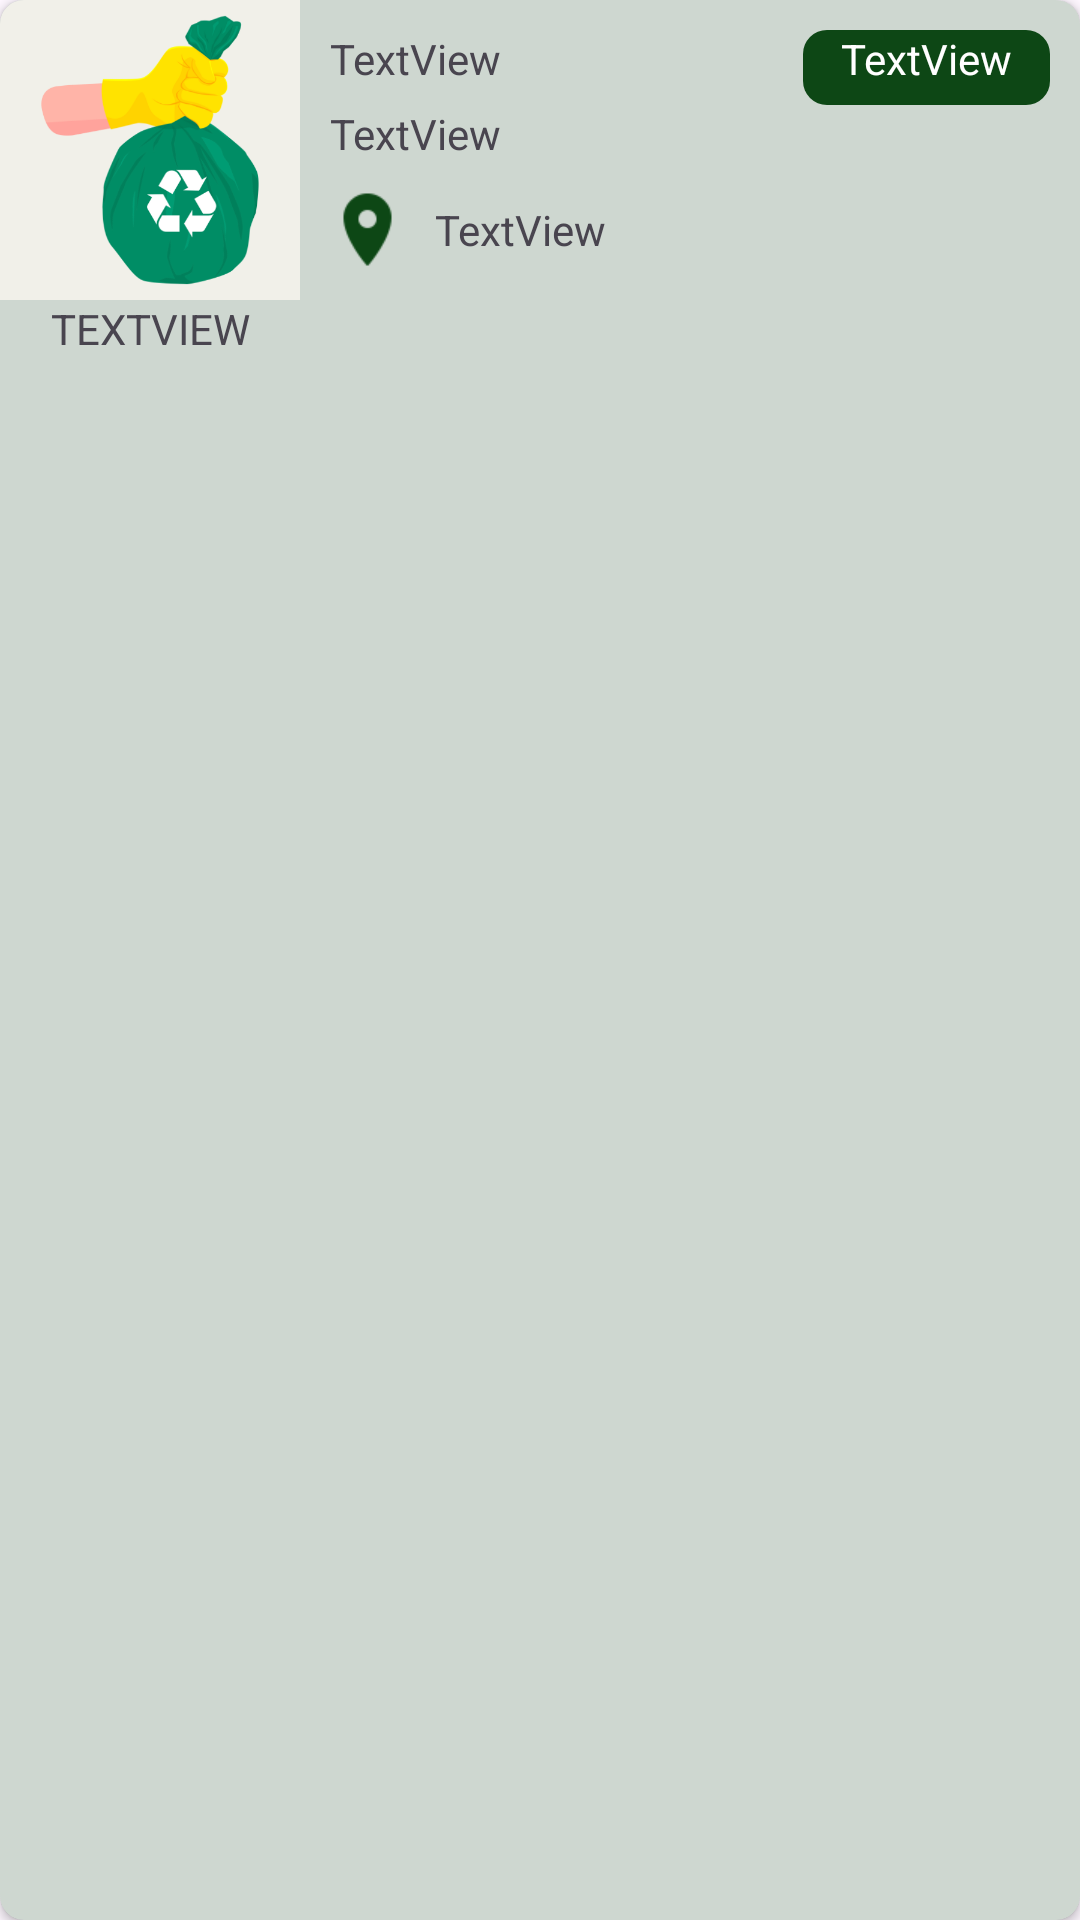

Icon click points for this 1080px x 1920px phone screenshot, format point (x, y):
basura: point (150, 150)
iconslocation: point (367, 229)
